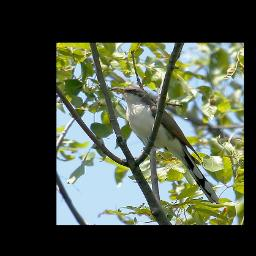Cuckoo: (109, 85, 221, 205)
